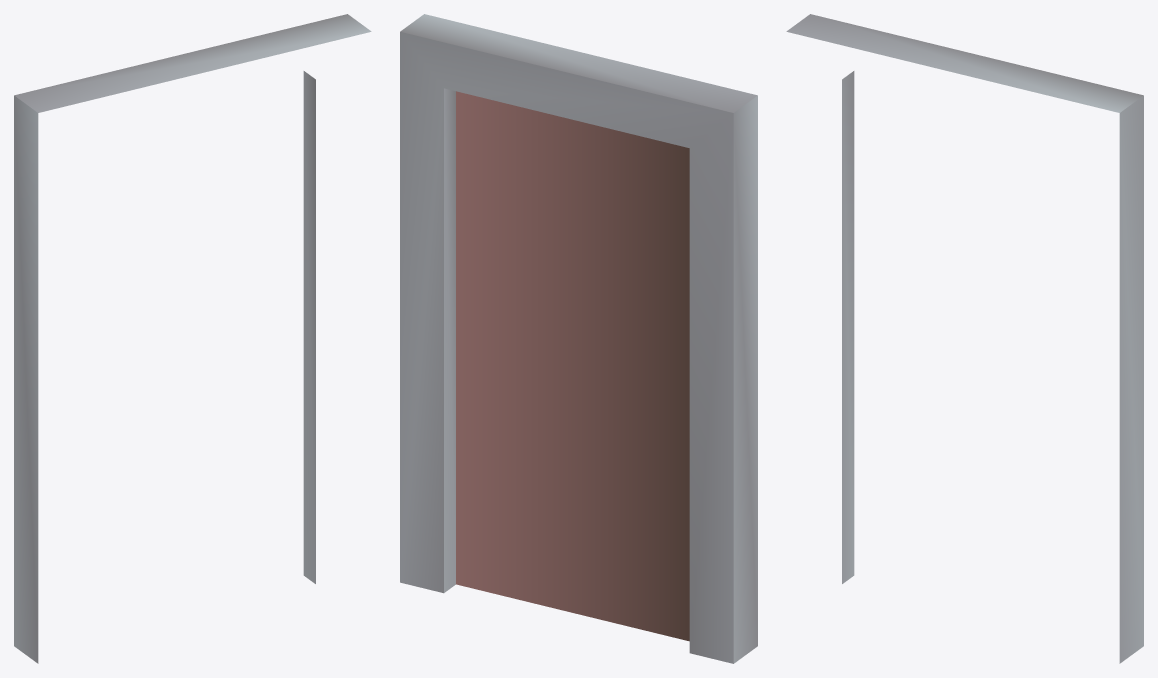
File: door-type-a.glb
The picture shows the model from 3 angles, left to right: view 1: azimuth 30°, elevation 25°; view 2: azimuth 150°, elevation 25°; view 3: azimuth 330°, elevation 25°; orthographic projection.
Parts seen in each view (by area): view 1: door-type-a; view 2: door-type-a; view 3: door-type-a.
Part boxes in pixels (x1,y1,x2,y2): door-type-a: (14, 14, 371, 663); door-type-a: (400, 14, 757, 663); door-type-a: (786, 14, 1143, 663).
Size of the model in its own units: 0.3978 by 0.6278 by 0.05.
